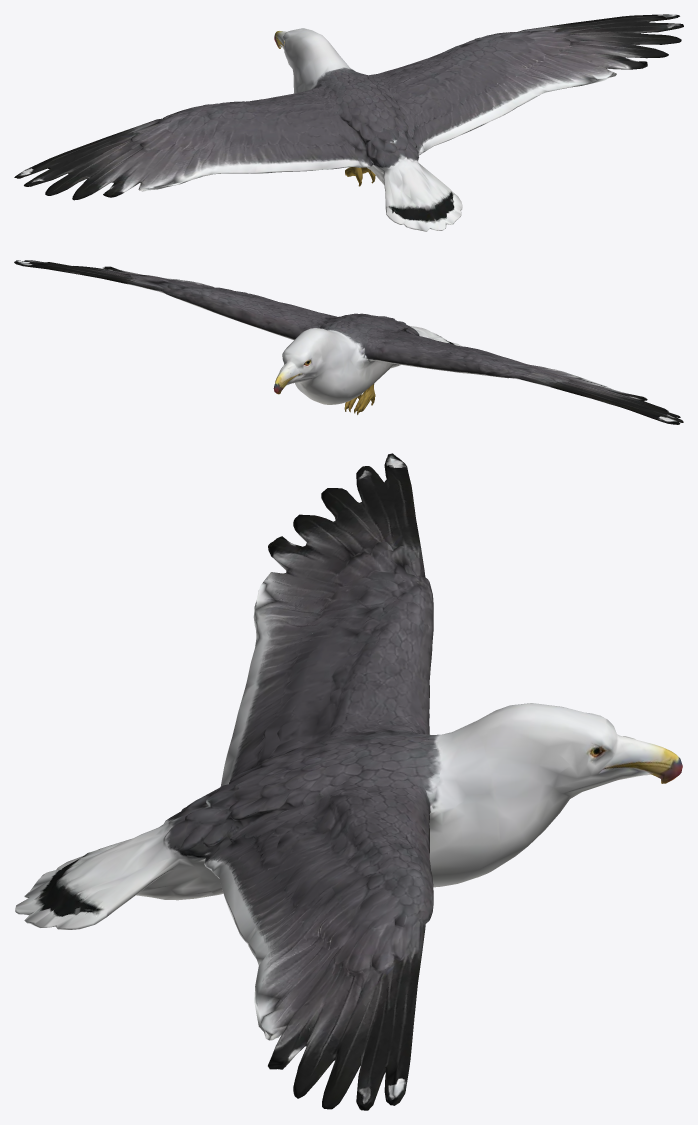
File: gull-fly-mid.glb
The picture shows the model from 3 angles, top to bottom: view 1: azimuth 30°, elevation 25°; view 2: azimuth 150°, elevation 25°; view 3: azimuth 270°, elevation 25°; orthographic projection. The views are drawn at different scales.
Visible parts, largest first — view 1: wingL-mesh, wingR-mesh, body-mesh; view 2: body-mesh, wingL-mesh, wingR-mesh; view 3: body-mesh, wingR-mesh, wingL-mesh.
Boxes of the visible parts, <box> form: wingL-mesh: <box>14,89,362,200</box>; wingR-mesh: <box>376,14,683,152</box>; body-mesh: <box>274,28,462,231</box>; body-mesh: <box>273,313,460,414</box>; wingL-mesh: <box>368,331,683,424</box>; wingR-mesh: <box>14,260,336,339</box>; body-mesh: <box>15,703,682,929</box>; wingR-mesh: <box>212,787,433,1110</box>; wingL-mesh: <box>220,453,433,786</box>.
Size of the model in its own units: 1.1 by 0.1767 by 0.4795.
Materials: 1 (1 with a texture image).
